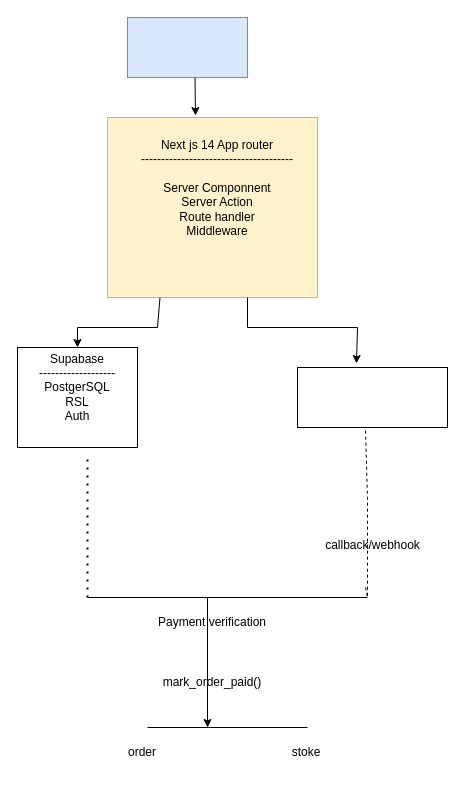
Image size: 465x785. Some labels were removed from this diagram. Here are the shapes that lost their labels. From the top down, the centre of each, then its label:
At (x=187, y=47): "Browser Next js UI".
At (x=372, y=397): "Chapa payments".
